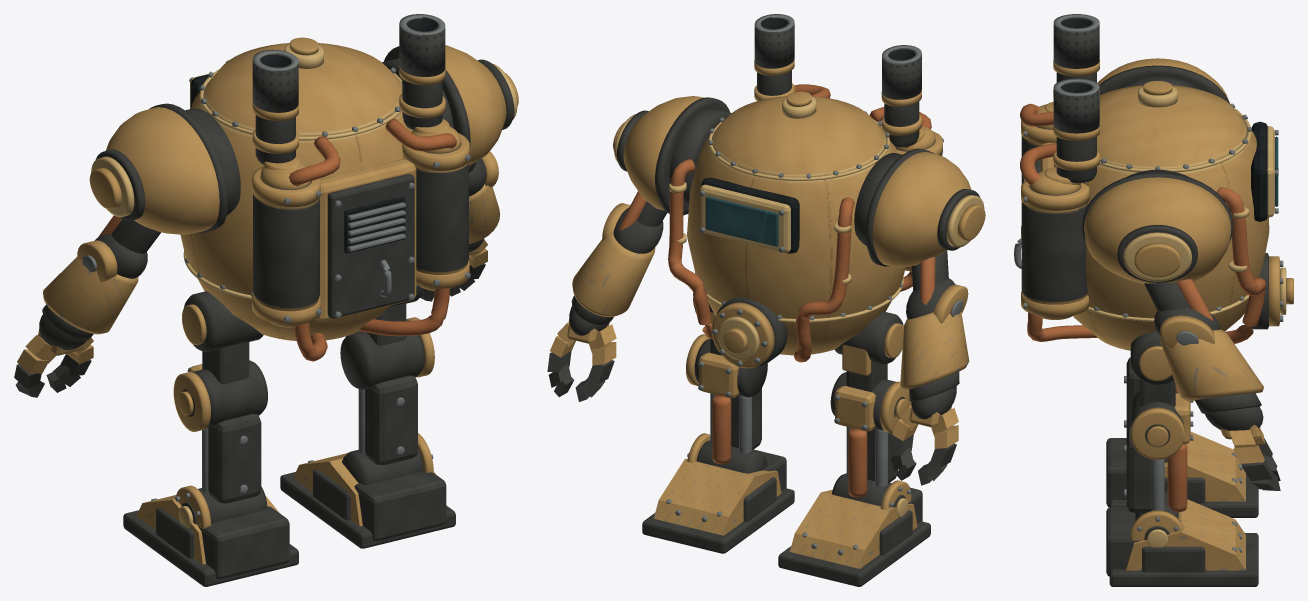
The picture shows the model from 3 angles, left to right: view 1: azimuth 30°, elevation 25°; view 2: azimuth 150°, elevation 25°; view 3: azimuth 270°, elevation 25°; orthographic projection. The views are drawn at different scales.
Size of the model in its own units: 3.62 by 4 by 2.12.
1 material, 1 textured.
